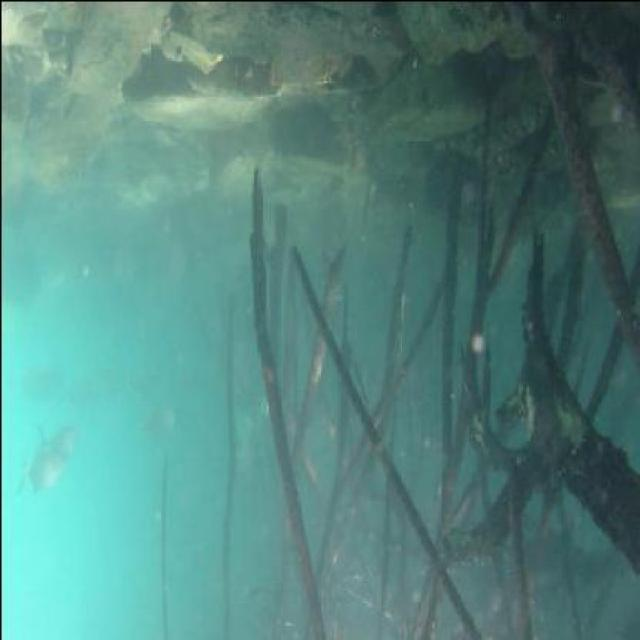Caranx_sexfasciatus_juvenile: (0, 354, 54, 411), (21, 415, 73, 471), (138, 393, 177, 450), (0, 457, 49, 501)
